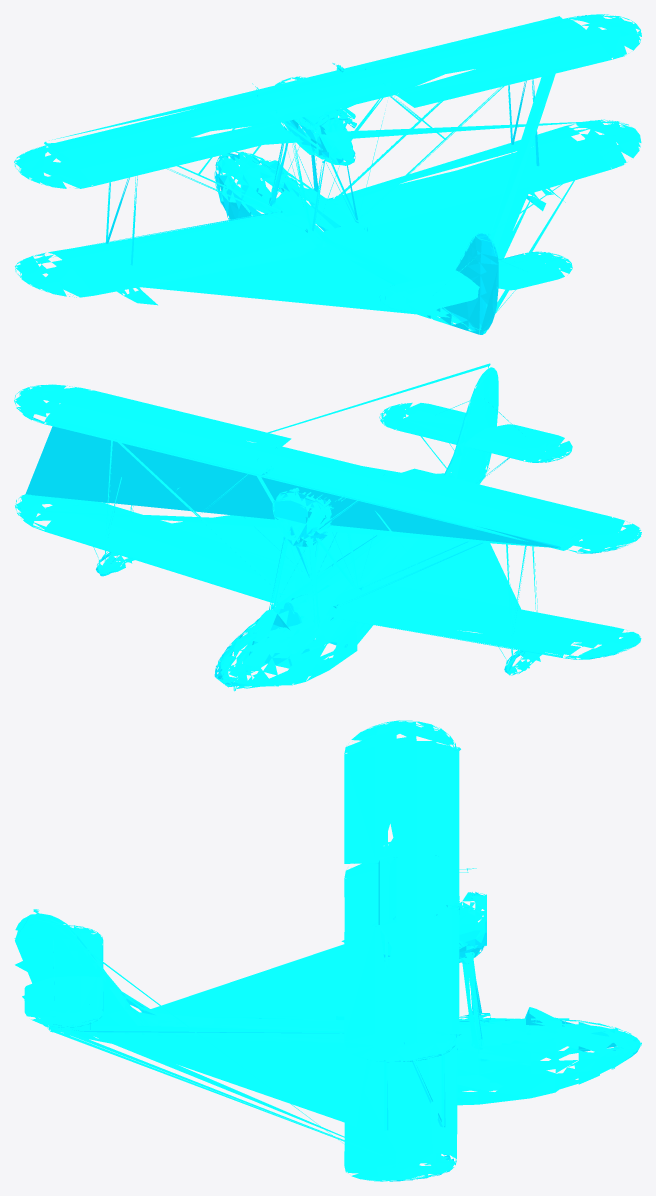
Rendered from PIAS005.glb.
3 renders of one model, top to bottom at view 1: azimuth 30°, elevation 25°; view 2: azimuth 150°, elevation 25°; view 3: azimuth 270°, elevation 25°, orthographic. The views are drawn at different scales.
Parts seen in each view (by area): view 1: misc; view 2: misc; view 3: misc.
Part boxes in pixels (bbox=[...]): misc: bbox=[14, 14, 641, 334]; misc: bbox=[14, 363, 641, 691]; misc: bbox=[14, 720, 641, 1181].
Size of the model in its own units: 0.7433 by 0.2159 by 0.5784.
